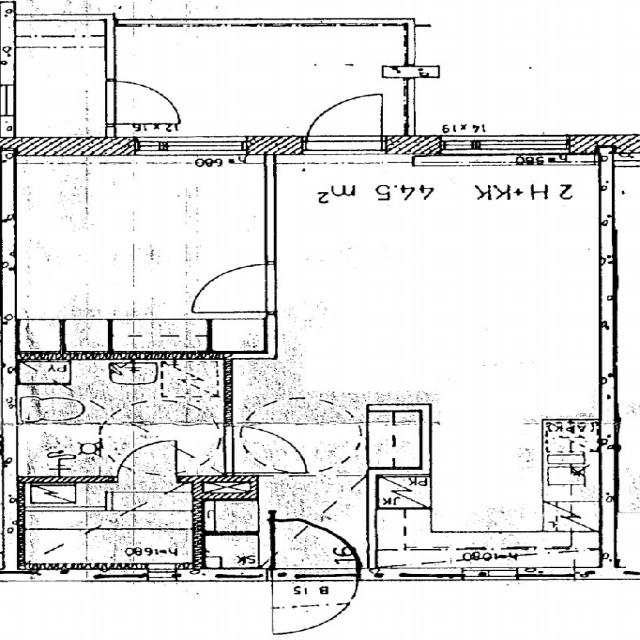door: (268, 568, 358, 638), (268, 511, 358, 581), (304, 87, 382, 154), (222, 425, 309, 472), (190, 265, 276, 311), (104, 80, 186, 125), (119, 442, 175, 484)
